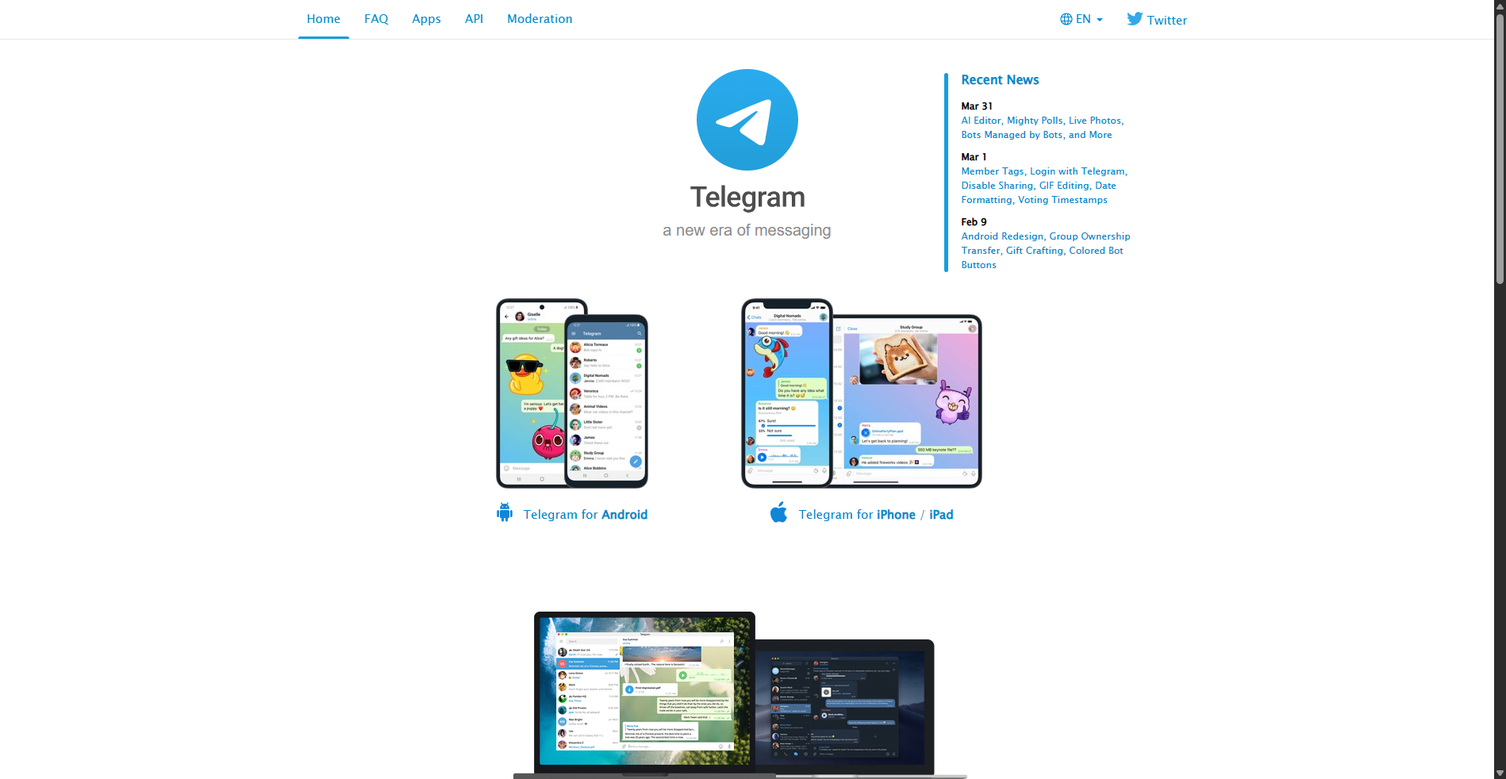button: (687, 298, 1037, 536), (457, 298, 687, 536), (588, 63, 906, 213), (511, 593, 756, 779), (756, 593, 983, 779), (961, 150, 1137, 207), (961, 215, 1137, 272), (961, 99, 1137, 142), (495, 0, 585, 38), (1115, 0, 1199, 39), (1048, 0, 1115, 38), (961, 73, 1137, 87), (295, 0, 352, 38), (400, 0, 453, 38), (352, 0, 400, 38), (453, 0, 495, 38), (1098, 43, 1112, 47), (1083, 66, 1097, 70), (1098, 57, 1109, 61), (1083, 70, 1094, 74), (1083, 75, 1094, 79), (1083, 48, 1096, 51), (1098, 75, 1107, 79), (1083, 43, 1091, 47), (1083, 52, 1091, 56), (1098, 52, 1106, 56), (1083, 57, 1091, 61), (1083, 61, 1091, 65), (1098, 70, 1106, 74), (1098, 61, 1105, 65), (1098, 66, 1105, 70), (1083, 84, 1090, 88), (1098, 48, 1106, 51), (1083, 79, 1089, 83), (1098, 79, 1104, 83)
